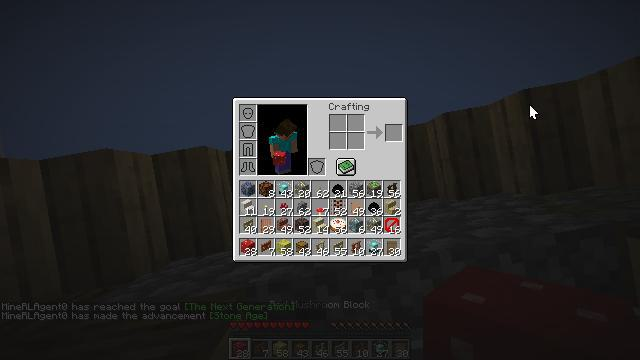cursor: (529, 104, 539, 120)
